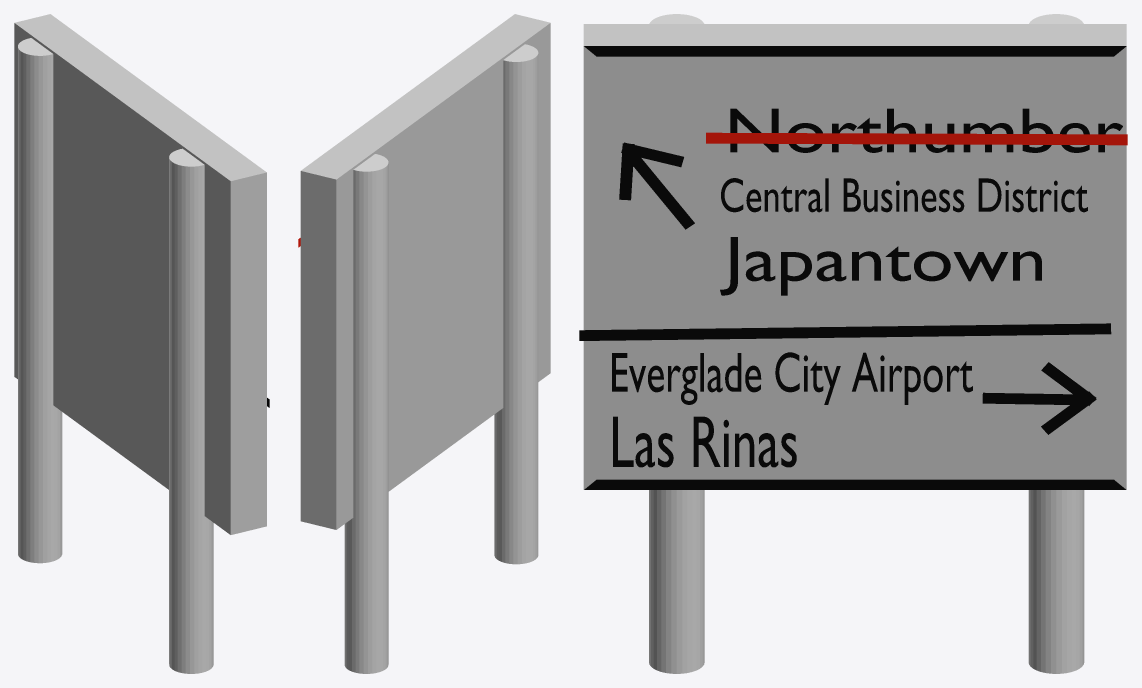
Rendered from UK_junction_sign_37.fbx.
3 views of the same model, side by side, from view 1: azimuth 30°, elevation 25°; view 2: azimuth 150°, elevation 25°; view 3: azimuth 270°, elevation 25° (orthographic). The views are drawn at different scales.
Parts seen in each view (by area): view 1: Cube.001, Cylinder, Cylinder.001; view 2: Cube.001, Cylinder, Cylinder.001; view 3: Cube.001, Cylinder.001, Cylinder, Text.001, Plane.012, Text.003, Plane.001, Text.005, Text.004, Plane.004, Plane.011.
Boxes of the visible parts, <box> form: Cube.001: <box>14,14,266,534</box>; Cylinder: <box>169,148,213,673</box>; Cylinder.001: <box>18,38,62,563</box>; Cube.001: <box>300,14,550,529</box>; Cylinder: <box>494,44,538,564</box>; Cylinder.001: <box>344,154,388,673</box>; Cube.001: <box>583,24,1126,489</box>; Cylinder.001: <box>1028,14,1084,673</box>; Cylinder: <box>649,14,704,673</box>; Text.001: <box>720,108,1122,295</box>; Plane.012: <box>579,323,1111,340</box>; Text.003: <box>612,352,972,404</box>; Plane.001: <box>706,132,1127,145</box>; Text.005: <box>721,178,1087,212</box>; Text.004: <box>613,416,796,467</box>; Plane.004: <box>628,153,694,229</box>; Plane.011: <box>982,392,1079,405</box>.
Size of the model in its own units: 6.22 by 50.59 by 39.31.
